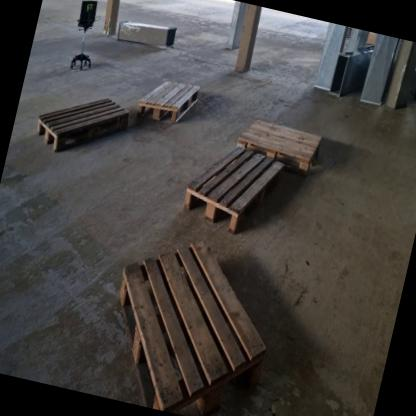BoxFace: (114, 232, 268, 416), (178, 145, 288, 241), (232, 112, 329, 180), (33, 94, 131, 158), (133, 76, 202, 130)
